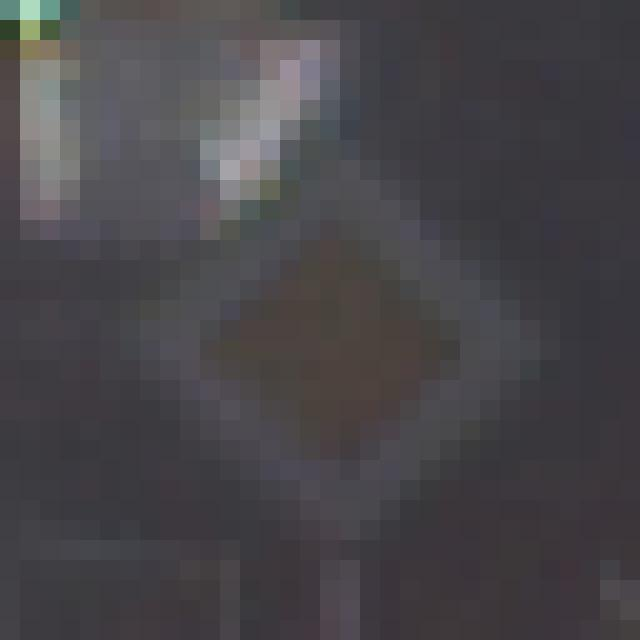Main Road: (101, 101, 541, 541)
